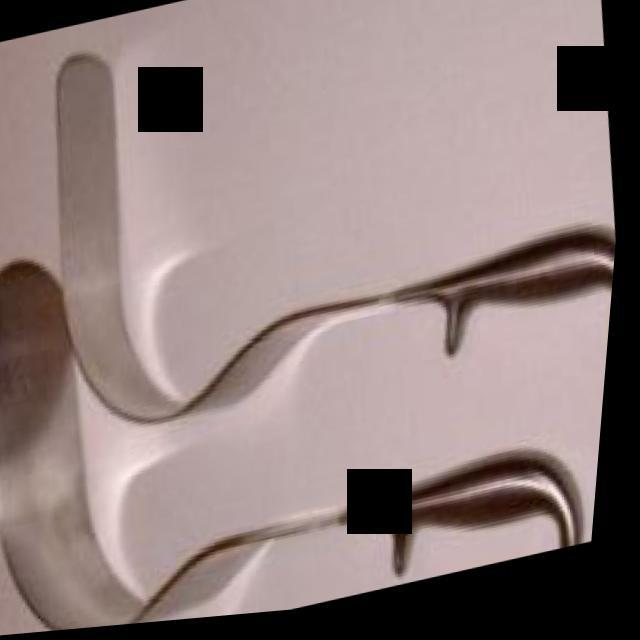Deaver Retractor: (14, 0, 640, 496), (0, 143, 618, 640)
